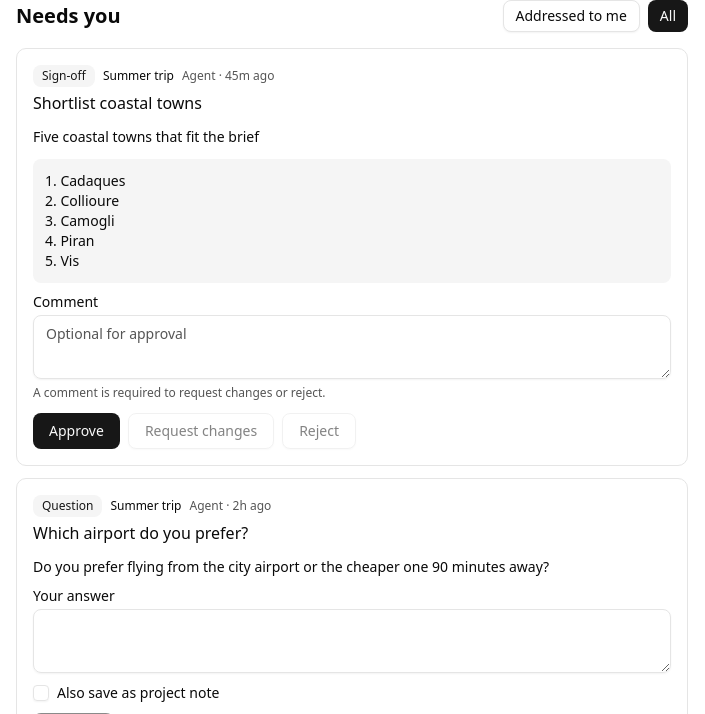
Needs you inbox › answering removes the question and moves the task back to ready
In the text box labelled "Your answer": [352, 641] box [33, 609, 671, 673], type "City"
(page scrolled)
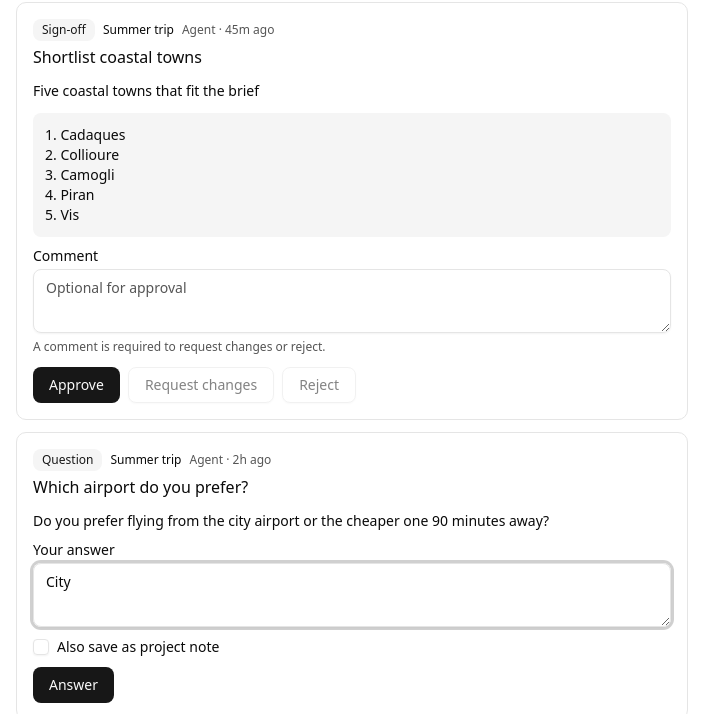
Click the button "Answer": [74, 685] box [33, 667, 114, 703]
(page scrolled)
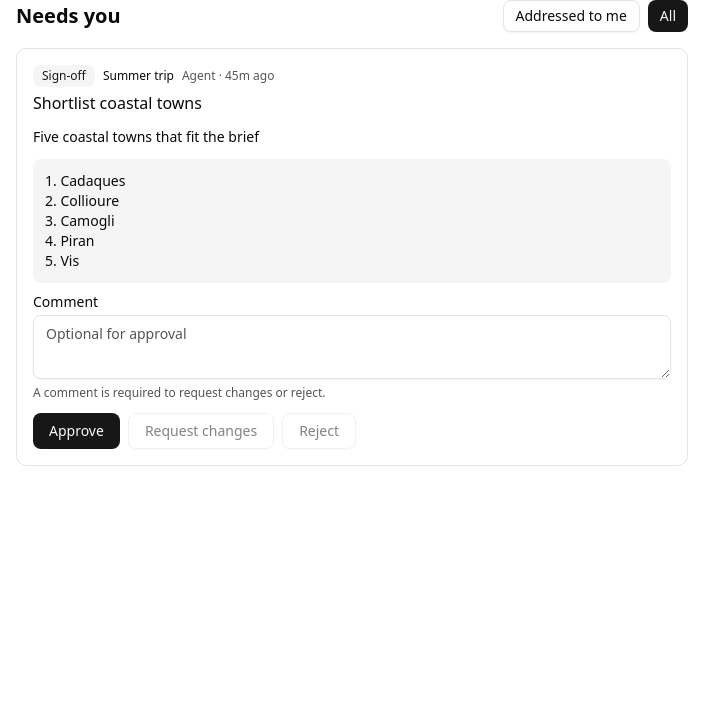
Expected: the text "Do you prefer flying from the city airport" is gone
